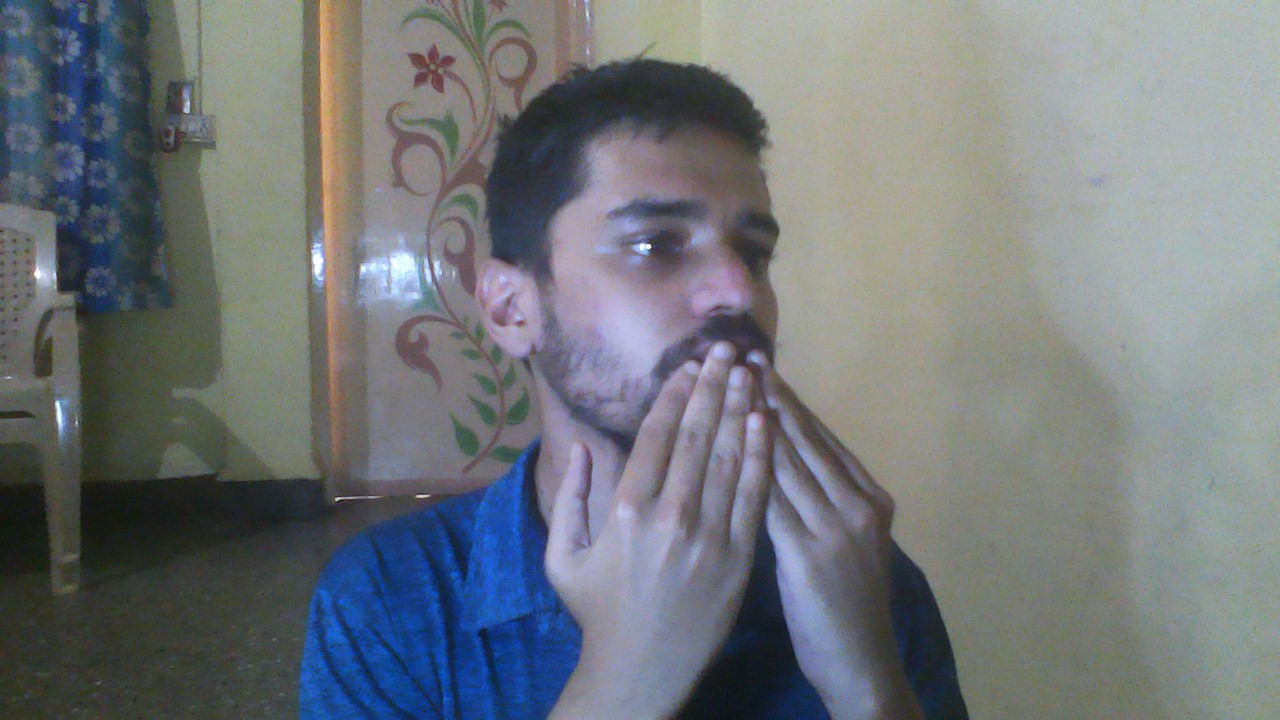thanks: (530, 325, 934, 720)
